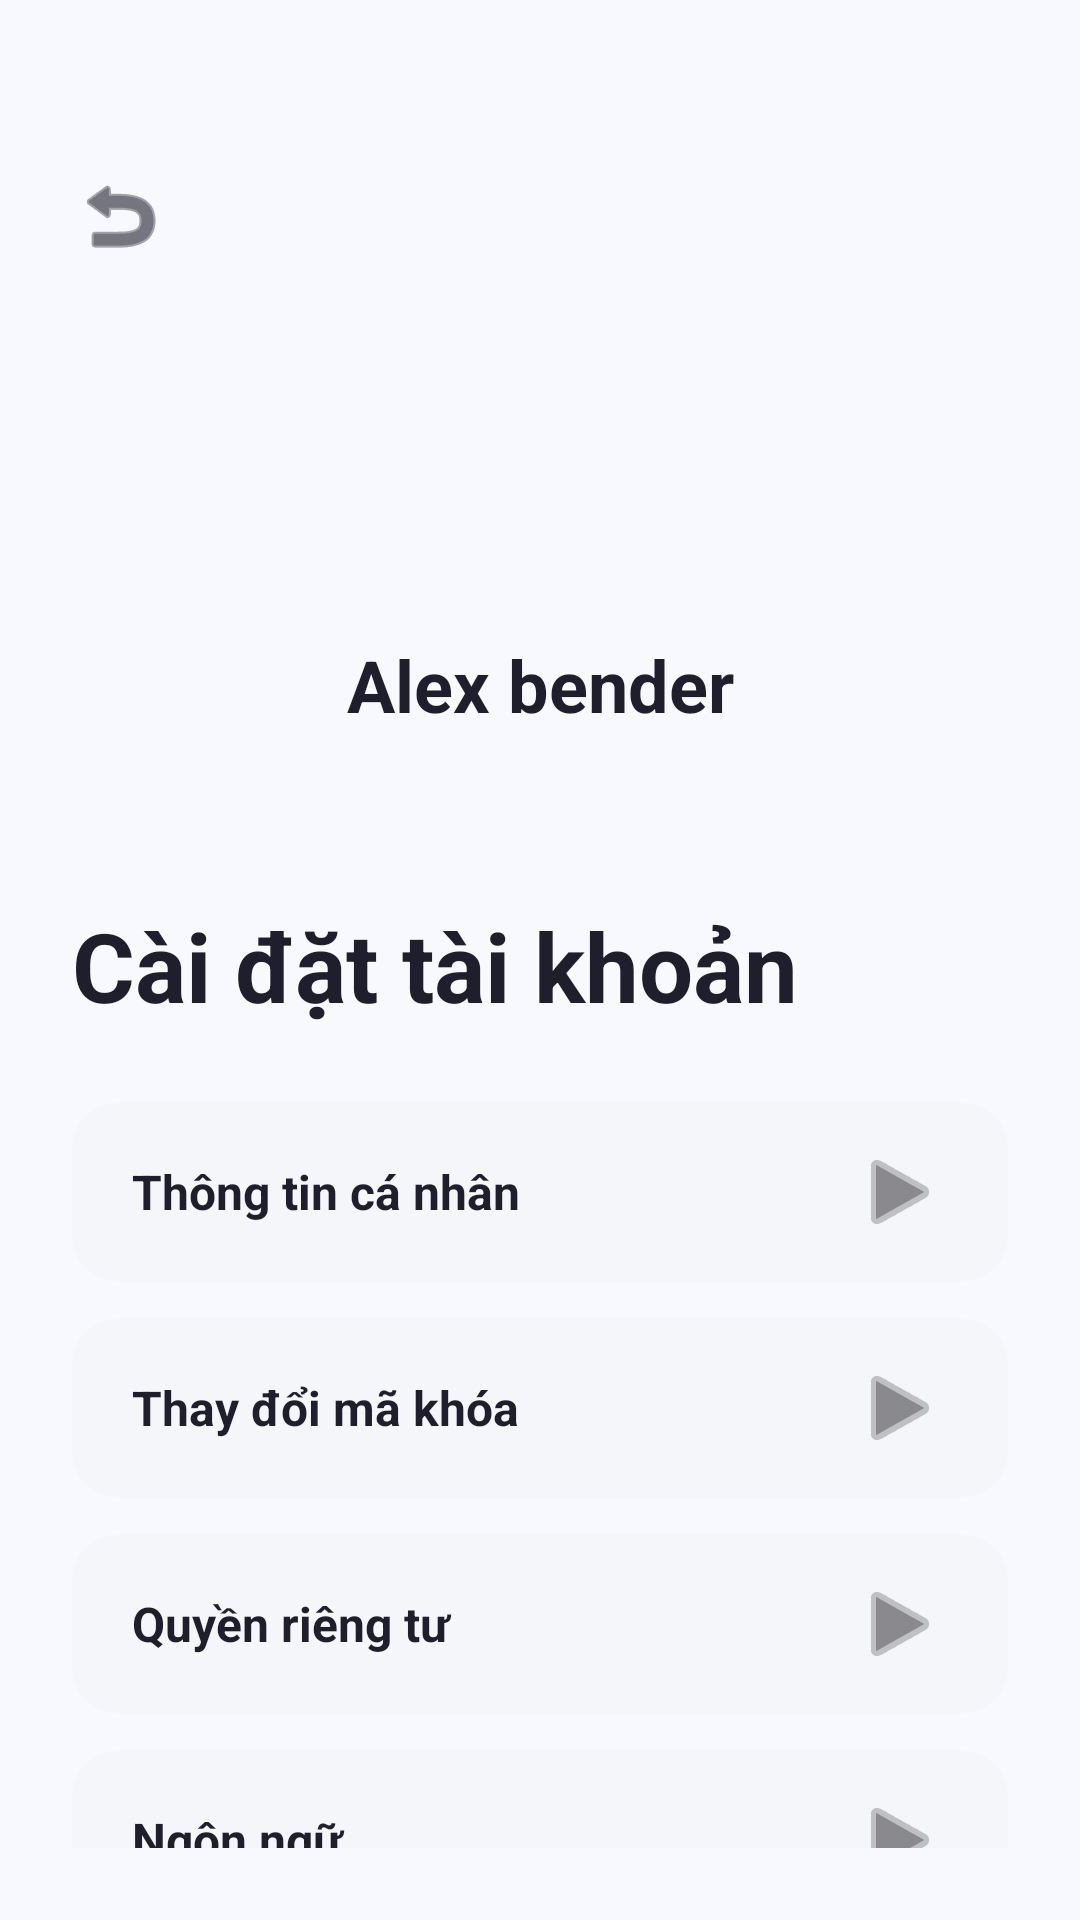

Icons on this 1080px x 1920px Android screen, each with the point to tap as (x=x, y=y):
Quay lại: (x=121, y=216)
